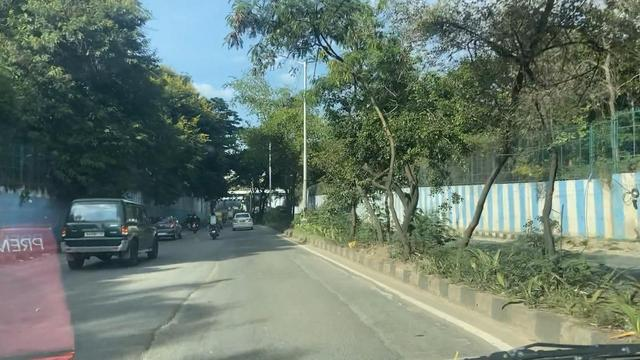LMV: (65, 202, 151, 260), (208, 212, 222, 237), (233, 211, 251, 229)
RoadDamages: (138, 253, 223, 353), (291, 257, 377, 341)
